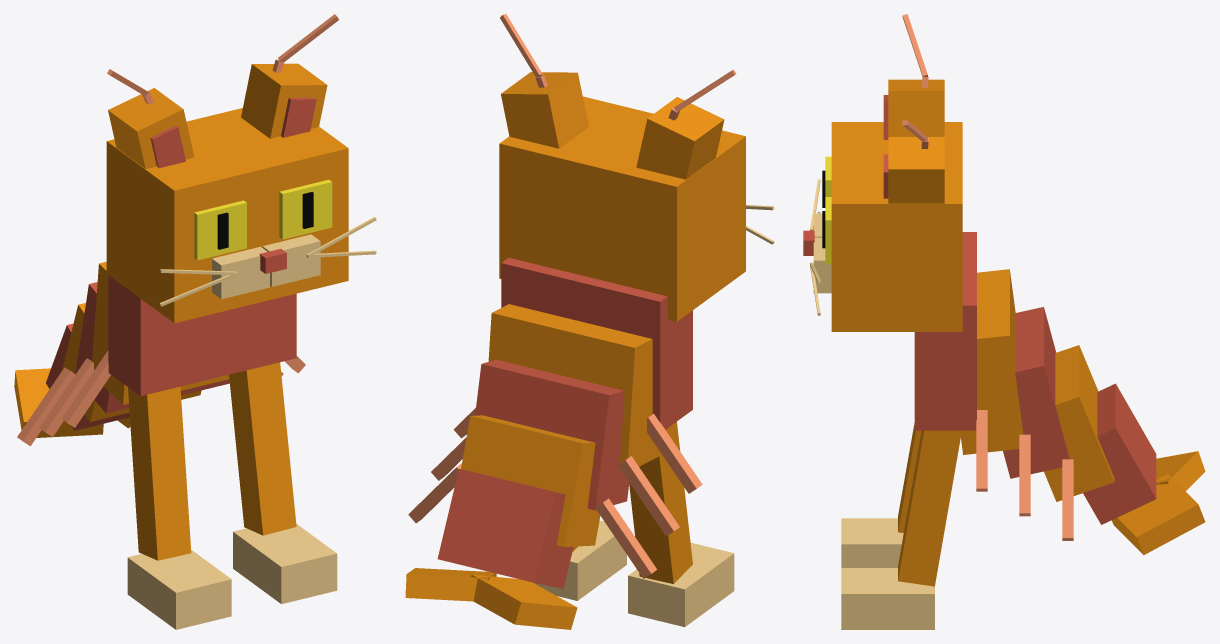
Rendered from TrippiTroppi_Mini.glb.
The picture shows the model from 3 angles, left to right: view 1: azimuth 30°, elevation 25°; view 2: azimuth 150°, elevation 25°; view 3: azimuth 270°, elevation 25°; orthographic projection. The views are drawn at different scales.
Visible parts, largest first — view 1: TrippiTroppi_Mini; view 2: TrippiTroppi_Mini; view 3: TrippiTroppi_Mini.
Part boxes in pixels (box(x1,y1,x2,y2)): TrippiTroppi_Mini: box(14, 14, 376, 629); TrippiTroppi_Mini: box(405, 14, 774, 629); TrippiTroppi_Mini: box(803, 14, 1205, 629).
Bounding box in the file's own units: 0.9192 × 2 × 1.39.
1 material, 1 textured.
